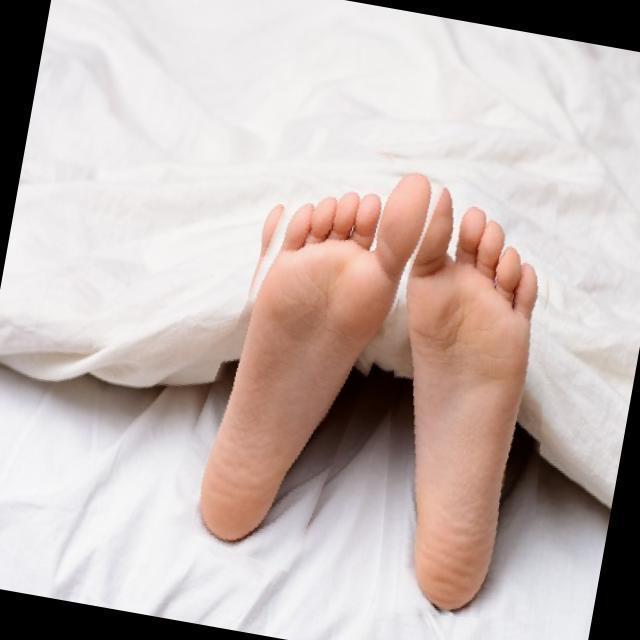No_Shoes: (176, 166, 420, 561), (392, 200, 548, 614)
